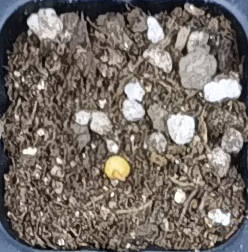pepper seed: (38, 64, 170, 245)
